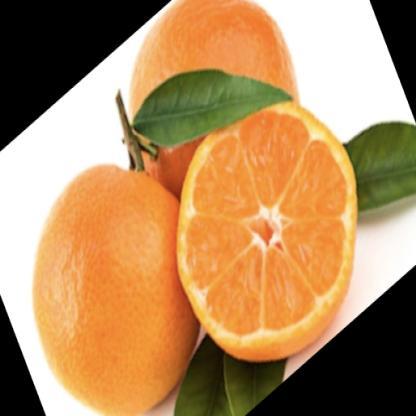fresh: (36, 1, 360, 416)
